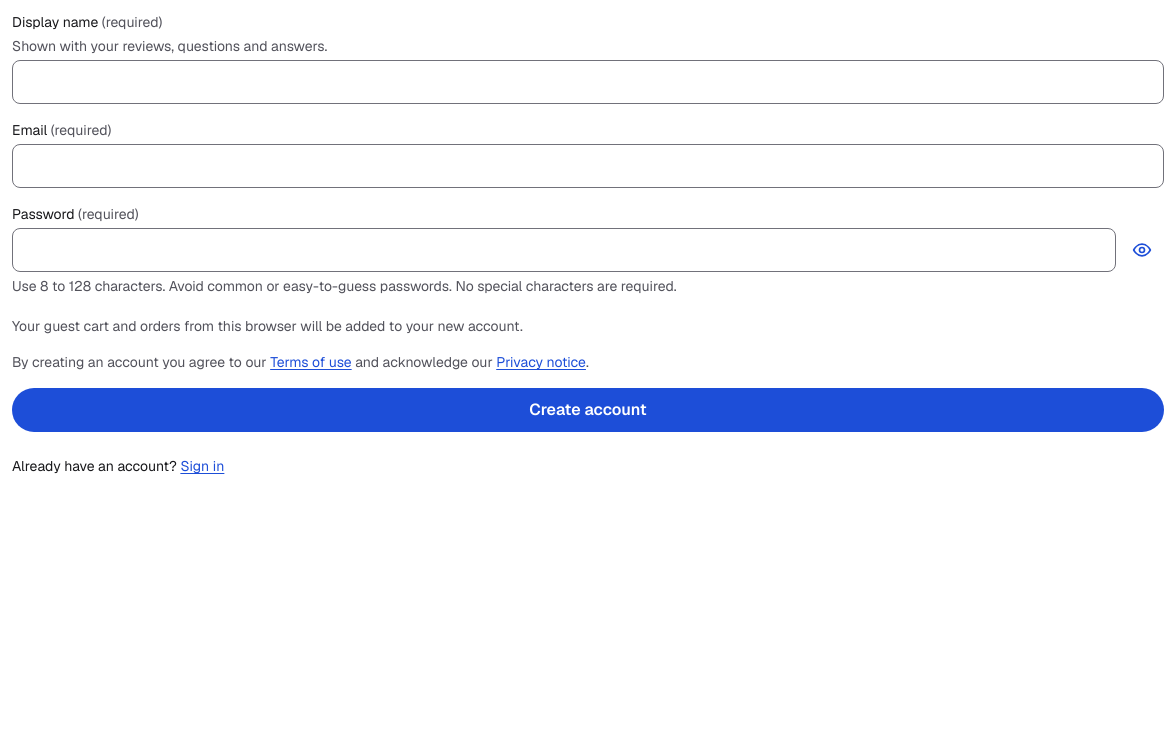
SignUpForm interactions › EMAIL_TAKEN: constant text, sign-in link carrying next, focus, password cleared, values re-filled
Type "Ada" into the field labelled "Display name (required)" at {"x": 588, "y": 82}, box 12,60 -> 1164,104
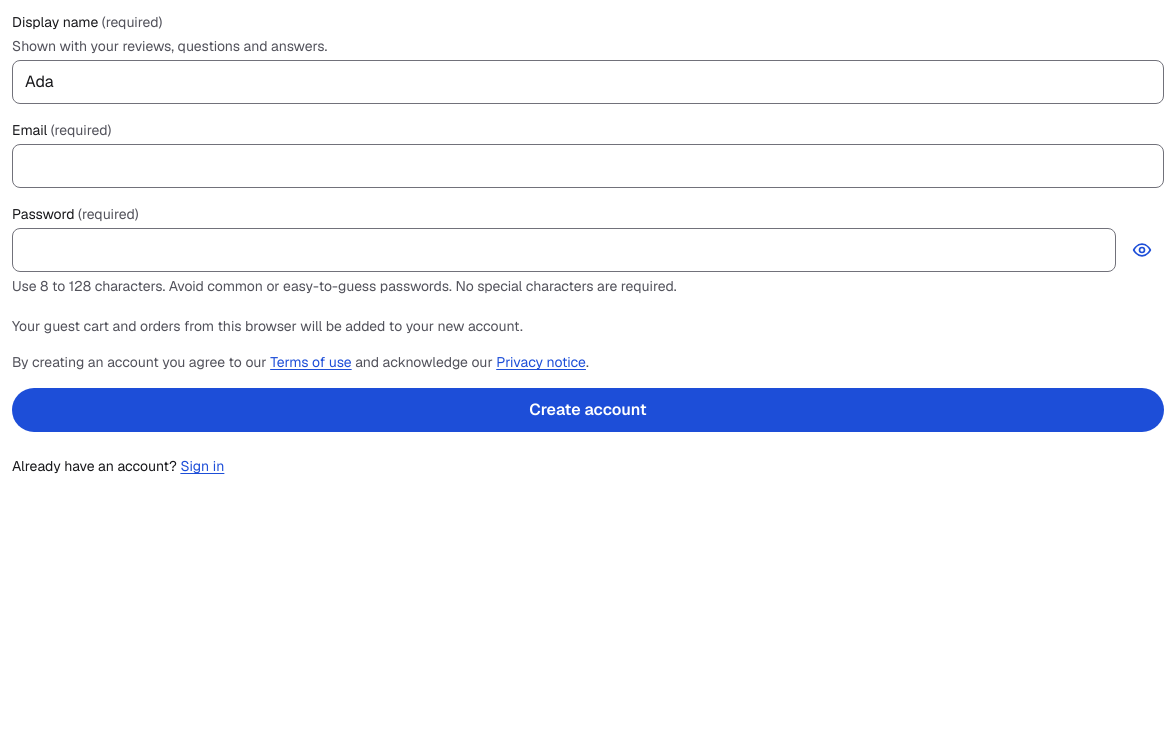
Type "ada@example.com" into the field labelled "Email (required)" at {"x": 588, "y": 166}, box 12,144 -> 1164,188
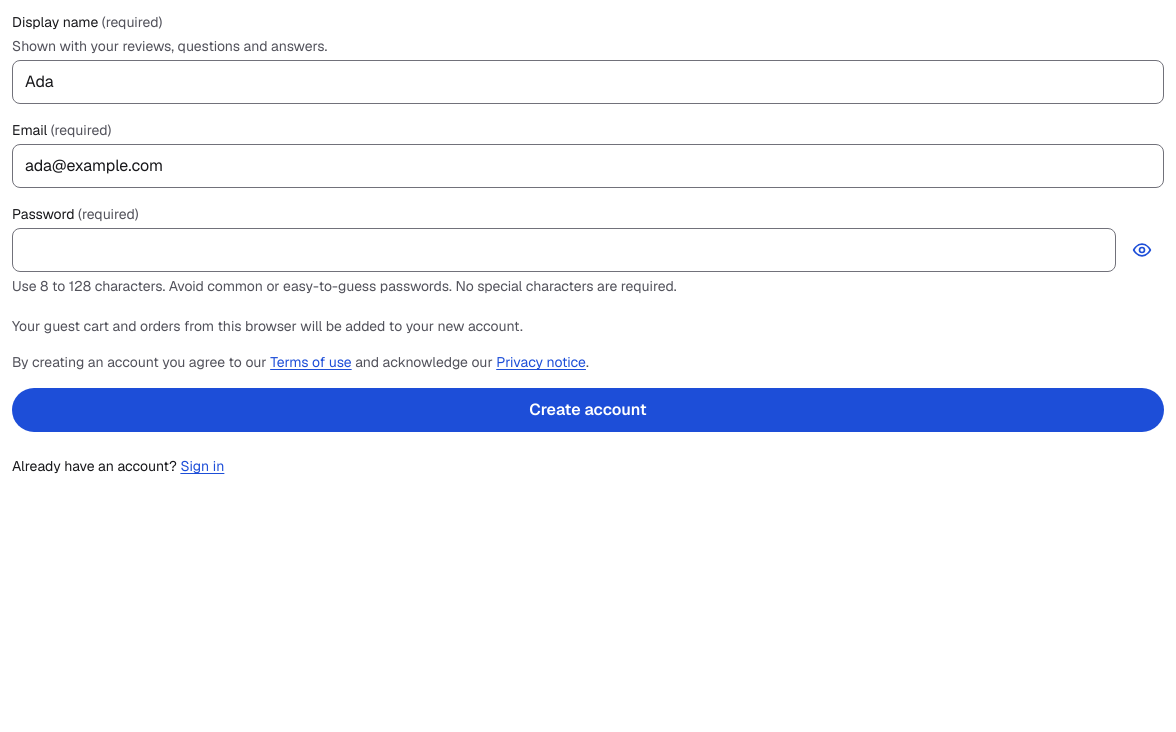
Type "quiet birch lantern" into the password field labelled "Password (required)" at {"x": 564, "y": 250}, box 12,228 -> 1116,272
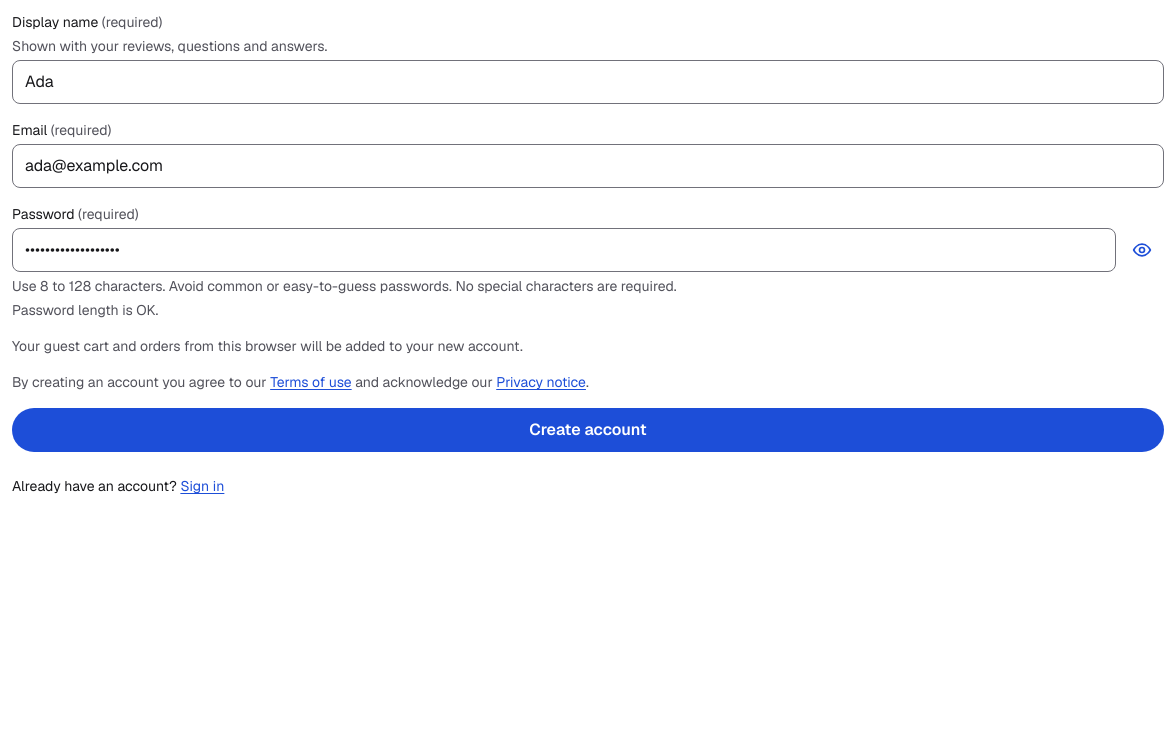
Submit the form with id "signup-form", box 12,12 -> 1164,452
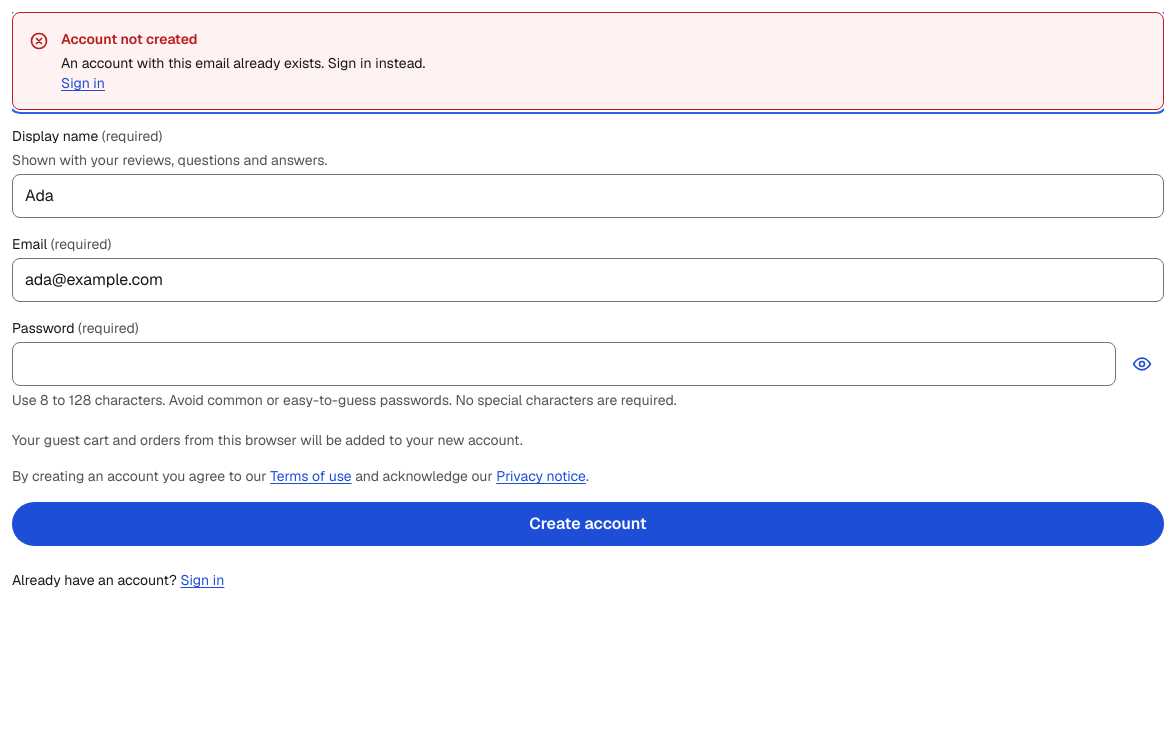
Expected: the message with test id "signup-error-summary" shows "An account with this email already exists. Sign in instead.", 61,54 -> 425,72
